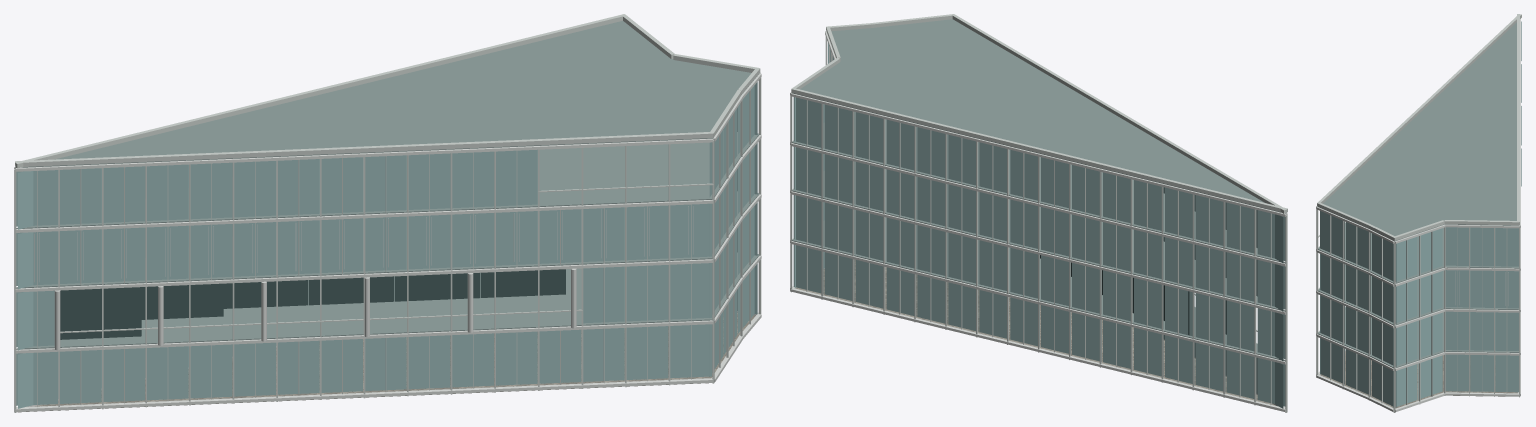
3 renders of one model, left to right at view 1: azimuth 30°, elevation 25°; view 2: azimuth 150°, elevation 25°; view 3: azimuth 270°, elevation 25°, orthographic. The views are drawn at different scales.
Visible parts, largest first — view 1: tigerPlaza__glass, tigerPlaza__roof, tigerPlaza__frame, tigerPlaza__light, tigerPlaza__glassRecess, tigerPlaza__stone; view 2: tigerPlaza__glass, tigerPlaza__roof, tigerPlaza__frame, tigerPlaza__light, tigerPlaza__stone; view 3: tigerPlaza__glass, tigerPlaza__roof, tigerPlaza__frame, tigerPlaza__light, tigerPlaza__stone.
Part boxes in pixels (<box>): tigerPlaza__glass: <box>16,82,757,408</box>; tigerPlaza__roof: <box>15,21,759,349</box>; tigerPlaza__frame: <box>14,14,761,412</box>; tigerPlaza__light: <box>14,73,761,412</box>; tigerPlaza__glassRecess: <box>60,269,565,339</box>; tigerPlaza__stone: <box>18,311,755,412</box>; tigerPlaza__glass: <box>793,43,1285,408</box>; tigerPlaza__roof: <box>792,19,1286,360</box>; tigerPlaza__frame: <box>790,14,1287,412</box>; tigerPlaza__light: <box>790,31,1287,412</box>; tigerPlaza__stone: <box>796,259,1275,405</box>; tigerPlaza__glass: <box>1320,21,1521,407</box>; tigerPlaza__roof: <box>1318,22,1518,367</box>; tigerPlaza__frame: <box>1316,14,1521,412</box>; tigerPlaza__light: <box>1316,19,1520,412</box>; tigerPlaza__stone: <box>1320,351,1517,408</box>.
Bounding box in the file's own units: 38.24 × 13.87 × 14.8.
Materials: 6 (1 with a texture image).
